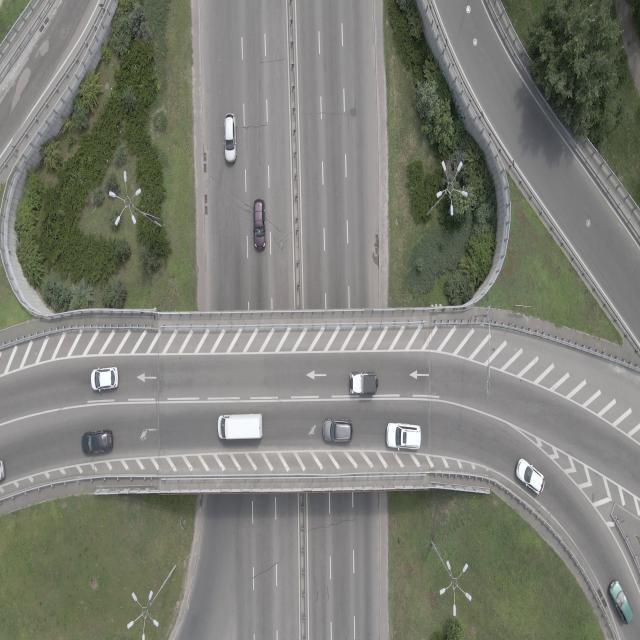vehicle: (218, 413, 262, 441), (609, 580, 634, 624), (516, 458, 545, 494), (386, 423, 421, 450), (81, 430, 112, 454), (322, 419, 352, 443), (253, 200, 266, 250), (224, 113, 237, 163), (350, 372, 378, 395), (91, 367, 118, 390), (0, 459, 5, 489)
